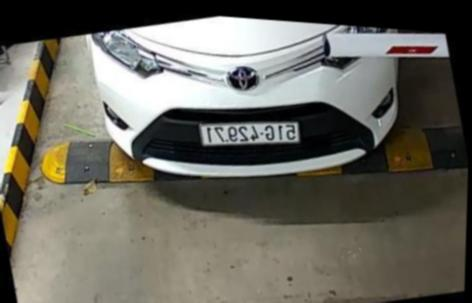License_Plate: (201, 111, 301, 161)
